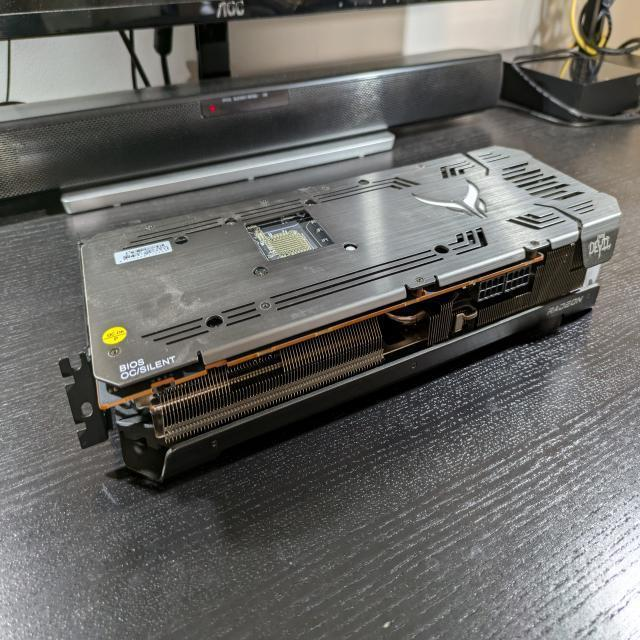GPU: (53, 142, 630, 476)
